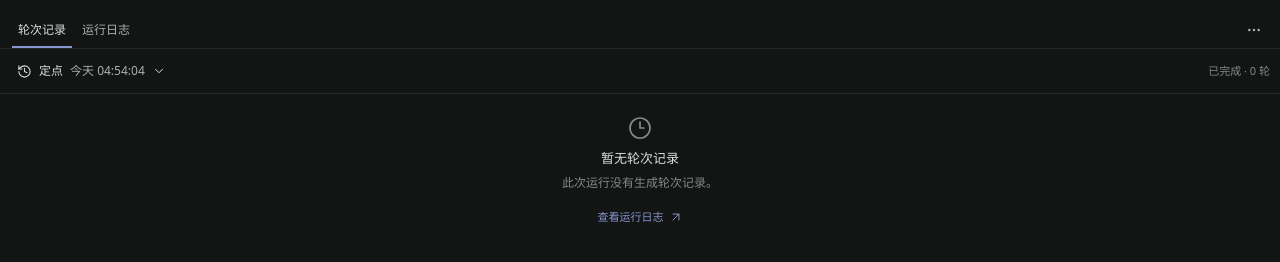
Test: runs without rounds retain access to run logs and selecting another run opens its latest round
Expected: the text "暂无轮次记录" is shown, [601,149,679,168]
Click the button "查看运行日志". click: click(640, 217)
box: [588,202,692,232]
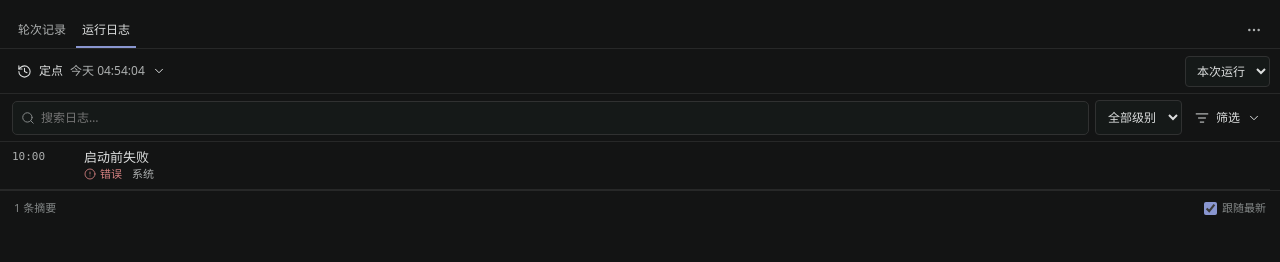
Result: the button "启动前失败" is shown at [84,148,1258,166]
Click the button "轮次记录". click: click(42, 30)
box: [12,12,72,48]
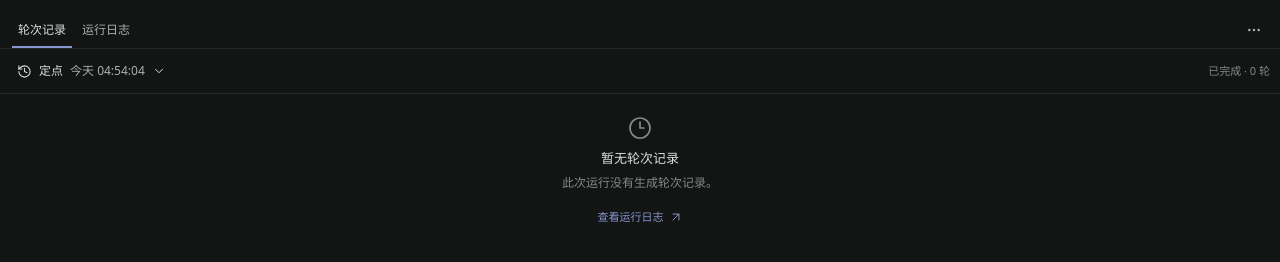
Click the button with aria-label "切换运行记录". click: click(91, 71)
box: [10,55,173,87]
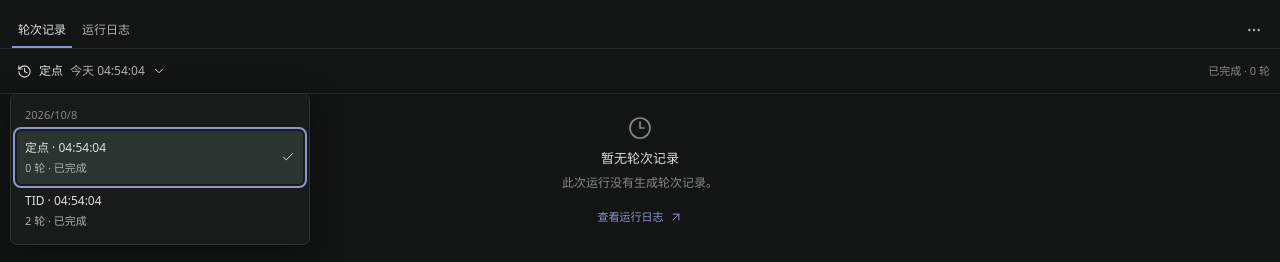
Click the menu item "TID · 04:54:04 2 轮 · 已完成". click: click(63, 200)
box: [17,184,303,238]
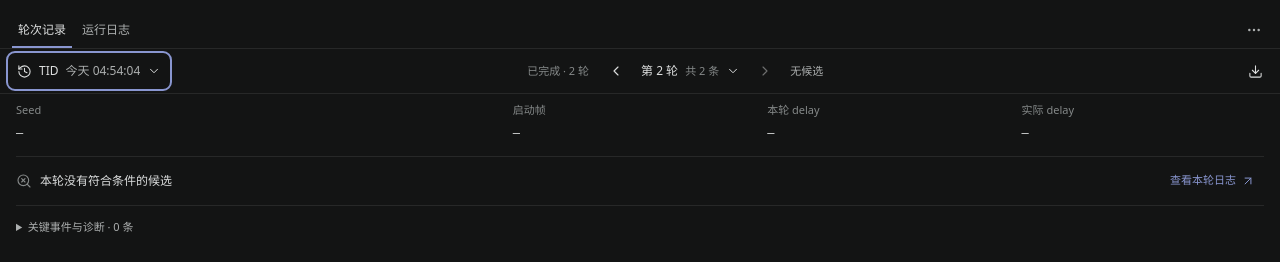
Result: the button named "选择轮次" shows "第 2 轮" at [634,55,747,87]
